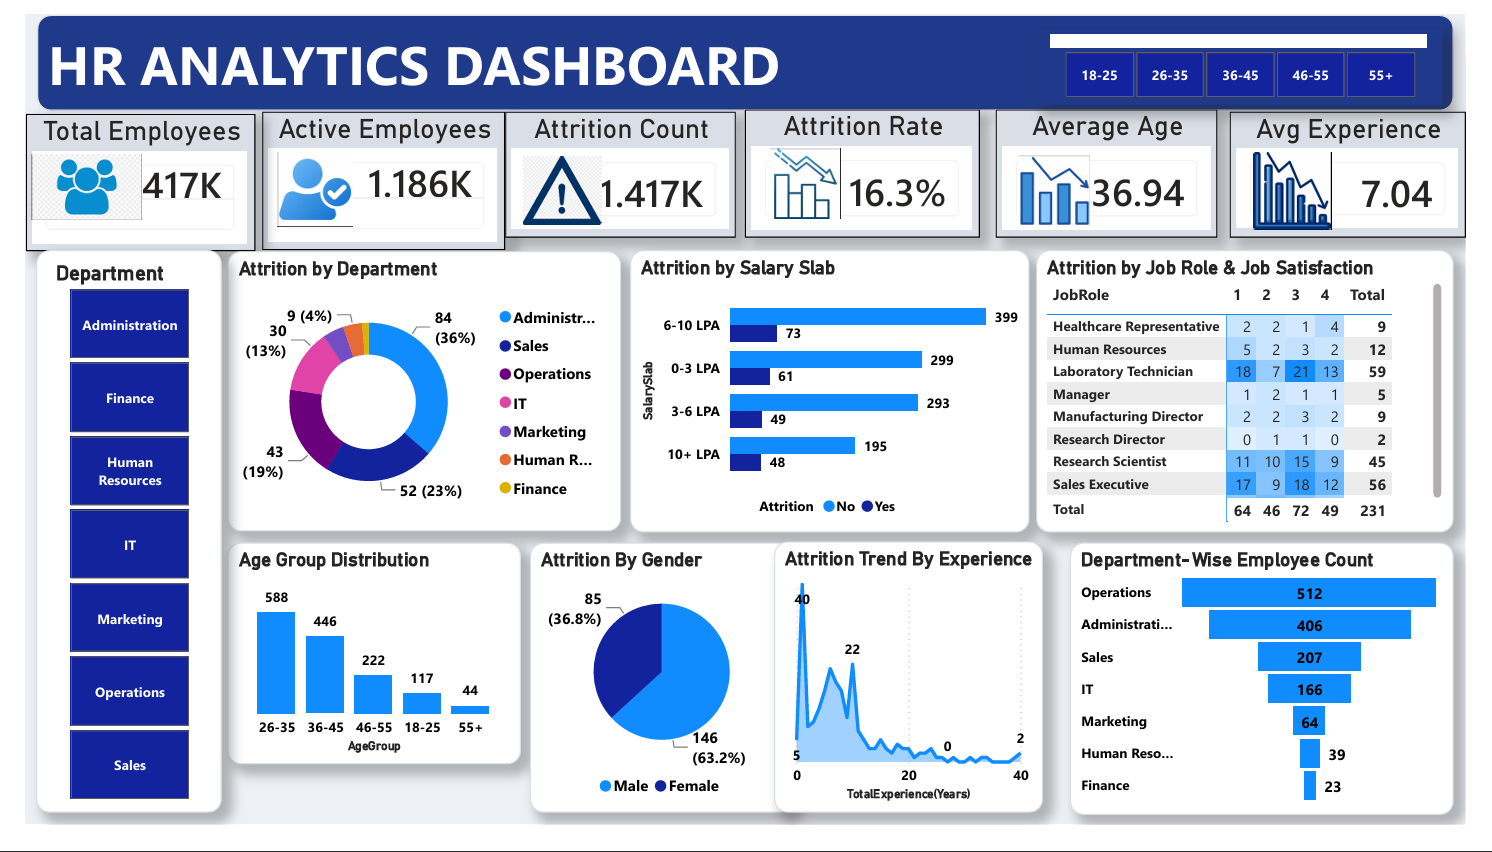

The page's visual inventory and layout, read from the dashboard file:
{"tool":"powerbi","page":{"name":"Page 1","canvas":[1280,720],"ordinal":0},"visuals":[{"type":"textbox","box":[10,0,1259,85],"z":0},{"type":"cardVisual","title":"Active Employees","fields":{"Data":["CountNonNull(HR_Analytics-4.EmployeeCount)"]},"box":[209.9,85.7,216,124.3],"z":1000},{"type":"cardVisual","title":"Attrition Count","fields":{"Data":["CountNonNull(HR_Analytics-4.AttiritionCount)"]},"box":[425.9,85.7,205.1,112.2],"z":2000},{"type":"cardVisual","title":"Attrition Rate","fields":{"Data":["HR_Analytics-4.Attrition rate %"]},"box":[639.5,83.7,208.6,113.9],"z":3000},{"type":"cardVisual","title":"Average Age","fields":{"Data":["Avg(HR_Analytics-4.Age)"]},"box":[861.8,83.7,197.6,113.9],"z":4000},{"type":"cardVisual","title":"Avg Experience","fields":{"Data":["Avg(HR_Analytics-4.YearsatCompany)"]},"box":[1070.3,86.4,209.9,111.1],"z":5000},{"type":"cardVisual","title":"Total Employees","fields":{"Data":["CountNonNull(HR_Analytics-4.EmpID)"]},"box":[0,88.1,209.9,121.9],"z":6000},{"type":"donutChart","title":"Attrition by Department","fields":{"Category":["HR_Analytics-4.Department"],"Y":["Sum(HR_Analytics-4.AttiritionCount)"]},"box":[179,210,350,249],"z":7000},{"type":"clusteredBarChart","title":"Attrition by Salary Slab","fields":{"Category":["HR_Analytics-4.SalarySlab"],"Y":["CountNonNull(HR_Analytics-4.EmpID)"],"Series":["HR_Analytics-4.Attrition"]},"box":[537,209,355,251],"z":8000},{"type":"pivotTable","title":"Attrition by Job Role & Job Satisfaction ","fields":{"Rows":["HR_Analytics-4.JobRole"],"Values":["Sum(HR_Analytics-4.AttiritionCount)"],"Columns":["HR_Analytics-4.JobSatisfaction"]},"box":[898,209,371,251],"z":9000},{"type":"columnChart","title":"Age Group Distribution","fields":{"Category":["HR_Analytics-4.AgeGroup"],"Y":["Sum(HR_Analytics-4.EmployeeCount)"]},"box":[179,469,261,197],"z":10000},{"type":"pieChart","title":"Attrition By Gender","fields":{"Category":["HR_Analytics-4.Gender"],"Y":["Sum(HR_Analytics-4.AttiritionCount)"]},"box":[448,469,234,240],"z":11000},{"type":"areaChart","title":"Attrition Trend By Experience","fields":{"Category":["HR_Analytics-4.TotalExperience(Years)"],"Y2":["Sum(HR_Analytics-4.AttiritionCount)"]},"box":[664.7,468.1,238.9,241.3],"z":12000},{"type":"funnel","title":"Department-Wise Employee Count ","fields":{"Category":["HR_Analytics-4.Department"],"Y":["CountNonNull(HR_Analytics-4.EmpID)"]},"box":[928,469,341,242],"z":13000},{"type":"slicer","fields":{"Values":["HR_Analytics-4.Department"]},"box":[9,209,165,500],"z":14000},{"type":"slicer","fields":{"Values":["HR_Analytics-4.AgeGroup"]},"box":[898,12,361,68],"z":15000},{"type":"image","box":[203.9,135.1,106.2,66.4],"z":16000},{"type":"image","box":[0,130.3,74.8,53.1],"z":17000},{"type":"image","box":[425.4,126.2,102.9,60.4],"z":18000},{"type":"image","box":[661.4,119.4,63.1,61.7],"z":19000},{"type":"image","box":[848,124.9,133.1,61.7],"z":20000},{"type":"image","box":[1059.4,122.1,131.7,68.6],"z":21000}]}

Visuals, with their boxes in screenshot pixels (x1, y1, x2, y2), scaled from the page's 1280x720 canvas onto the 1492x852 screenshot:
textbox: [x1=12, y1=0, x2=1479, y2=101]
"Active Employees" cardVisual: [x1=245, y1=101, x2=496, y2=248]
"Attrition Count" cardVisual: [x1=496, y1=101, x2=736, y2=234]
"Attrition Rate" cardVisual: [x1=745, y1=99, x2=989, y2=234]
"Average Age" cardVisual: [x1=1005, y1=99, x2=1235, y2=234]
"Avg Experience" cardVisual: [x1=1248, y1=102, x2=1491, y2=234]
"Total Employees" cardVisual: [x1=0, y1=104, x2=245, y2=248]
"Attrition by Department" donutChart: [x1=209, y1=248, x2=617, y2=543]
"Attrition by Salary Slab" clusteredBarChart: [x1=626, y1=247, x2=1040, y2=544]
"Attrition by Job Role & Job Satisfaction " pivotTable: [x1=1047, y1=247, x2=1479, y2=544]
"Age Group Distribution" columnChart: [x1=209, y1=555, x2=513, y2=788]
"Attrition By Gender" pieChart: [x1=522, y1=555, x2=795, y2=839]
"Attrition Trend By Experience" areaChart: [x1=775, y1=554, x2=1053, y2=839]
"Department-Wise Employee Count " funnel: [x1=1082, y1=555, x2=1479, y2=841]
slicer - HR_Analytics-4.Department: [x1=10, y1=247, x2=203, y2=839]
slicer - HR_Analytics-4.AgeGroup: [x1=1047, y1=14, x2=1468, y2=95]
image: [x1=238, y1=160, x2=361, y2=238]
image: [x1=0, y1=154, x2=87, y2=217]
image: [x1=496, y1=149, x2=616, y2=221]
image: [x1=771, y1=141, x2=844, y2=214]
image: [x1=988, y1=148, x2=1144, y2=221]
image: [x1=1235, y1=144, x2=1388, y2=226]
